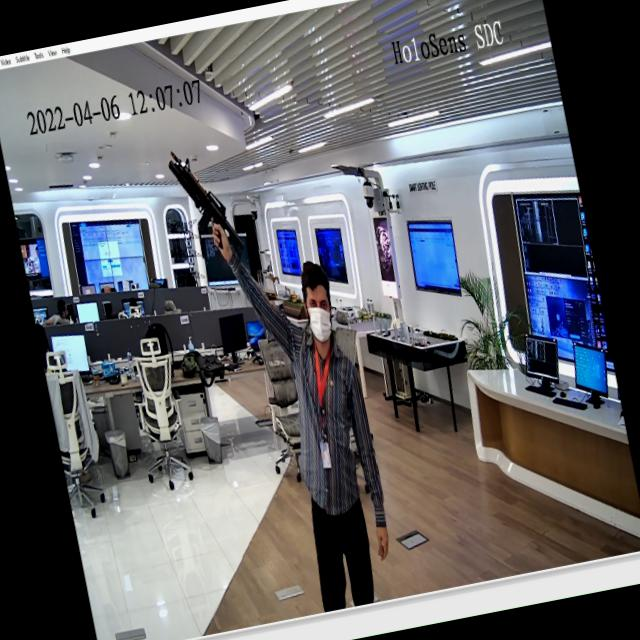long weapon: (162, 134, 254, 282)
